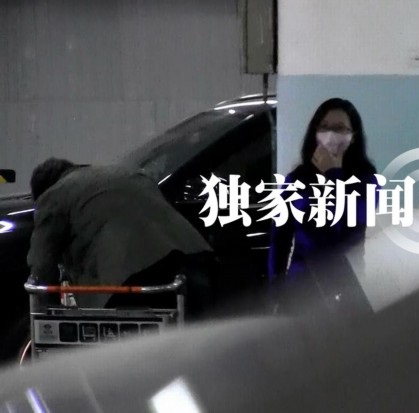face_mask: (314, 110, 351, 156)
